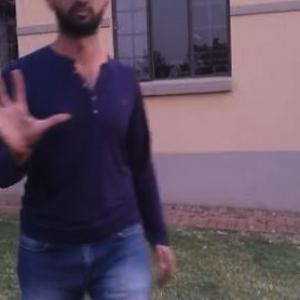follow_hand: (0, 65, 76, 165)
